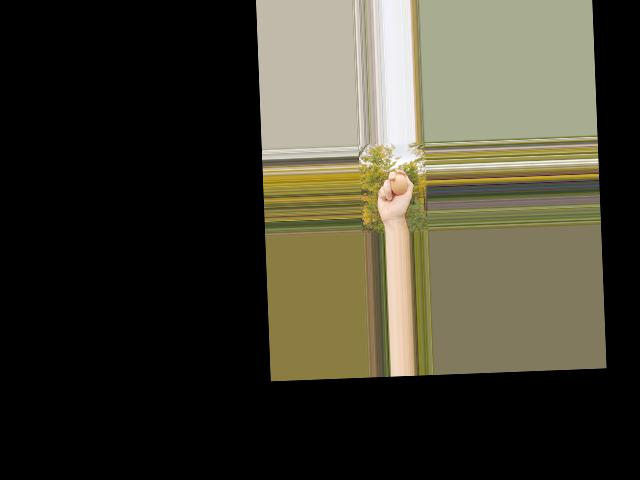egg: (389, 173, 407, 195)
